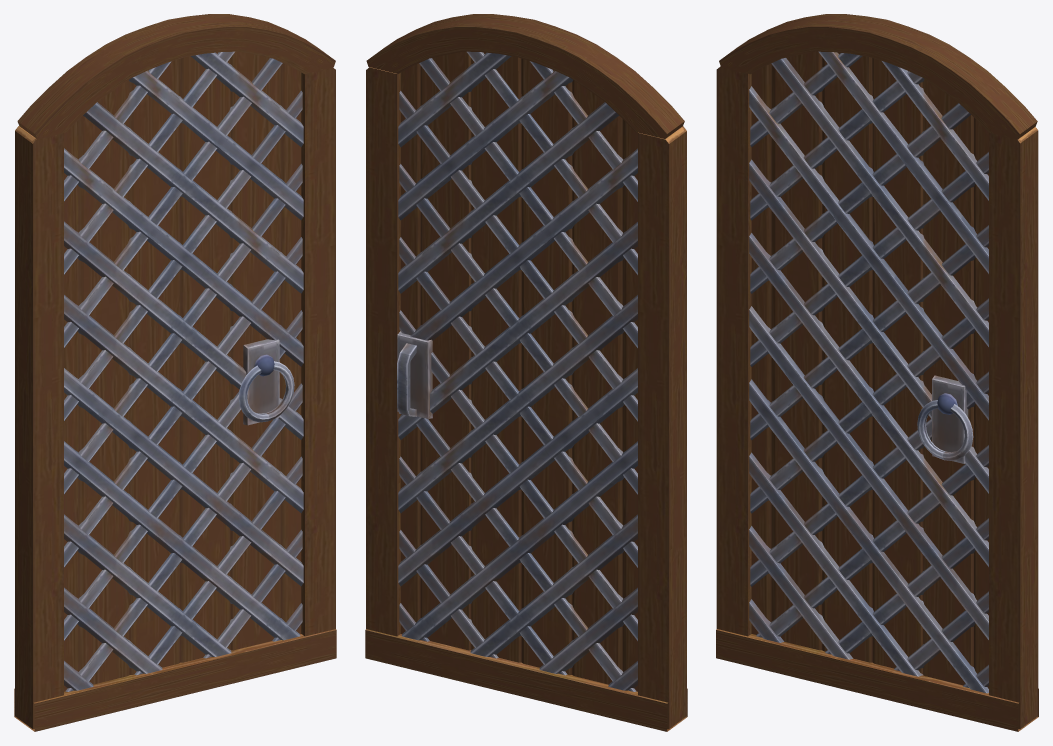
Rendered from door_round_2.glb.
3 views of the same model, side by side, from view 1: azimuth 30°, elevation 25°; view 2: azimuth 150°, elevation 25°; view 3: azimuth 330°, elevation 25° (orthographic).
Parts seen in each view (by area): view 1: Door_4_Round; view 2: Door_4_Round; view 3: Door_4_Round.
Part boxes in pixels (x1,y1,x2,y2): Door_4_Round: (14, 14, 336, 731); Door_4_Round: (365, 14, 687, 731); Door_4_Round: (716, 14, 1038, 731).
Bounding box in the file's own units: 1.11 × 2.32 × 0.2093.
2 materials, 2 textured.
